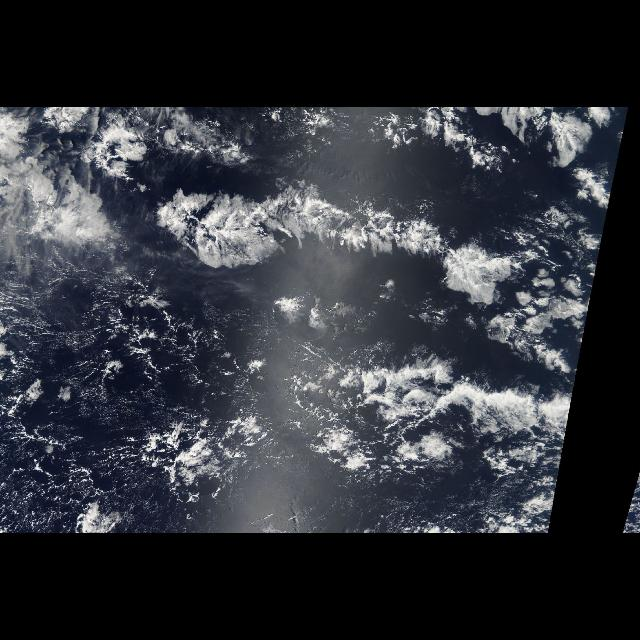Fish: (114, 166, 566, 330)
Gravel: (5, 316, 262, 528)
